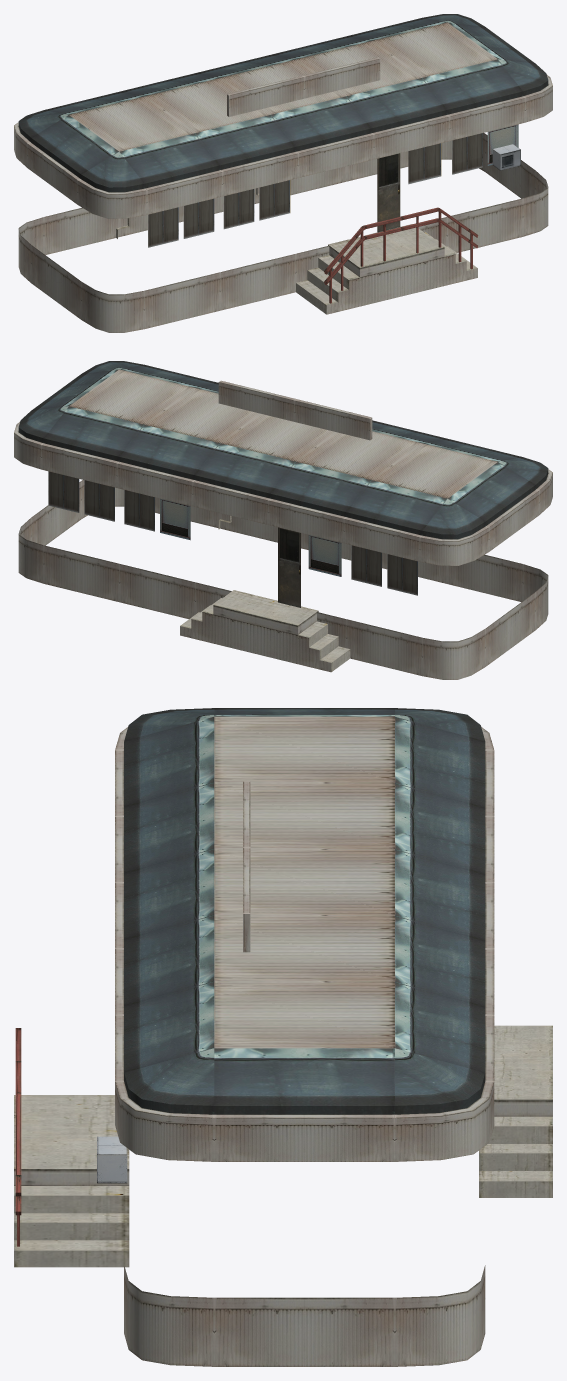
File: rural_diner_1_rural_facade_flr_2_0_lev2.glb
The picture shows the model from 3 angles, top to bottom: view 1: azimuth 30°, elevation 25°; view 2: azimuth 150°, elevation 25°; view 3: azimuth 270°, elevation 25°; orthographic projection. The views are drawn at different scales.
Parts seen in each view (by area): view 1: rural_diner_1_rural_facade_flr_2_0_lev2; view 2: rural_diner_1_rural_facade_flr_2_0_lev2; view 3: rural_diner_1_rural_facade_flr_2_0_lev2.
Boxes of the visible parts, bbox=[...] form: rural_diner_1_rural_facade_flr_2_0_lev2: bbox=[14, 14, 552, 332]; rural_diner_1_rural_facade_flr_2_0_lev2: bbox=[14, 361, 552, 679]; rural_diner_1_rural_facade_flr_2_0_lev2: bbox=[14, 708, 552, 1366].
Bounding box in the file's own units: 13.56 × 5.06 × 7.63.
Materials: 1 (1 with a texture image).
